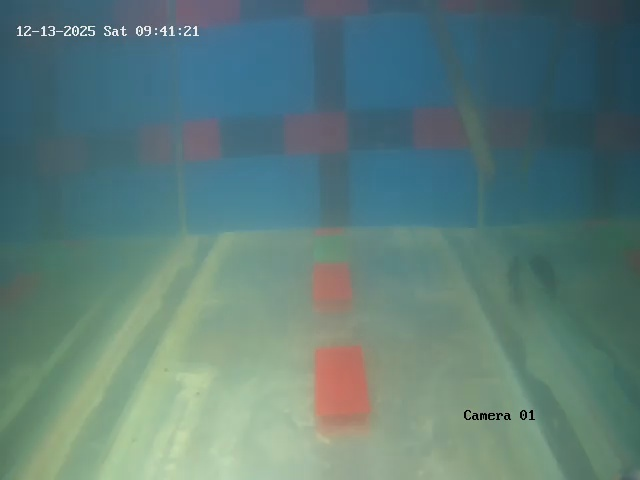fish: (502, 244, 530, 316)
